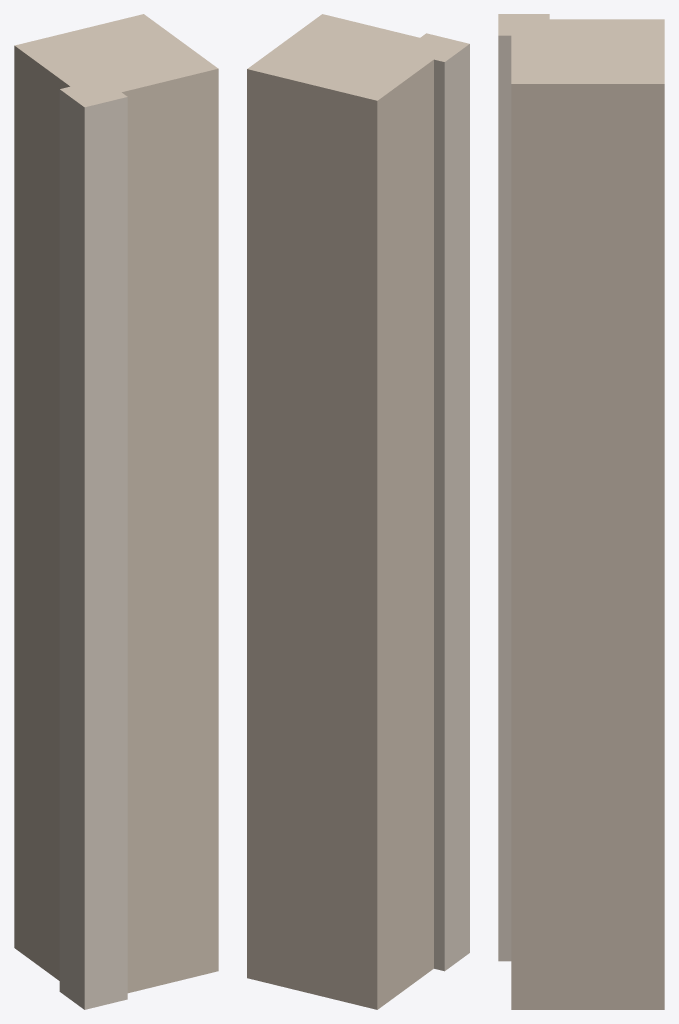
The model's file is Structure_Exterior_Wall_Corner.glb.
3 views of the same model, side by side, from view 1: azimuth 30°, elevation 25°; view 2: azimuth 150°, elevation 25°; view 3: azimuth 270°, elevation 25° (orthographic). The views are drawn at different scales.
Visible parts, largest first — view 1: Structure_Exterior_Wall_Corner; view 2: Structure_Exterior_Wall_Corner; view 3: Structure_Exterior_Wall_Corner.
Boxes of the visible parts, x1=… form: Structure_Exterior_Wall_Corner: x1=14, y1=14, x2=218, y2=1009; Structure_Exterior_Wall_Corner: x1=247, y1=14, x2=469, y2=1009; Structure_Exterior_Wall_Corner: x1=498, y1=14, x2=664, y2=1009.
Bounding box in the file's own units: 0.0731 × 0.45 × 0.0731.
